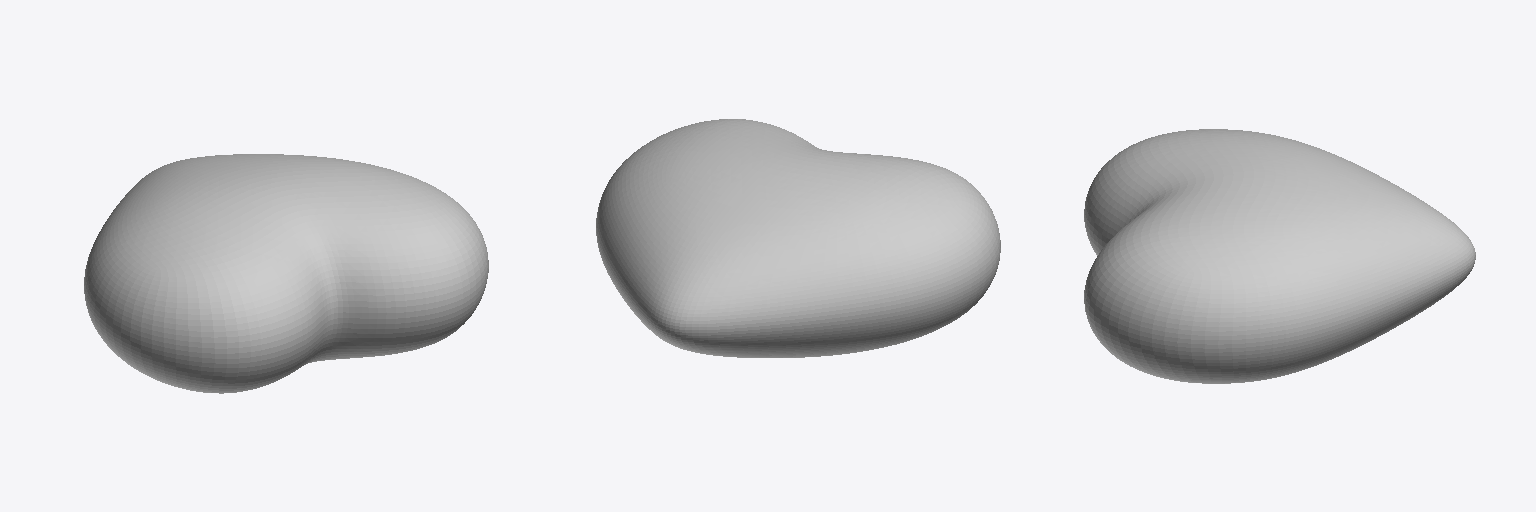
File: heart.obj
3 renders of one model, left to right at view 1: azimuth 30°, elevation 25°; view 2: azimuth 150°, elevation 25°; view 3: azimuth 270°, elevation 25°, orthographic.
Visible parts, largest first — view 1: 12190_Heart_v1_L3; view 2: 12190_Heart_v1_L3; view 3: 12190_Heart_v1_L3.
Boxes of the visible parts, x1=… form: 12190_Heart_v1_L3: x1=84, y1=154, x2=488, y2=393; 12190_Heart_v1_L3: x1=596, y1=119, x2=1000, y2=357; 12190_Heart_v1_L3: x1=1084, y1=129, x2=1475, y2=383.
Bounding box in the file's own units: 63.75 × 27.42 × 59.74.